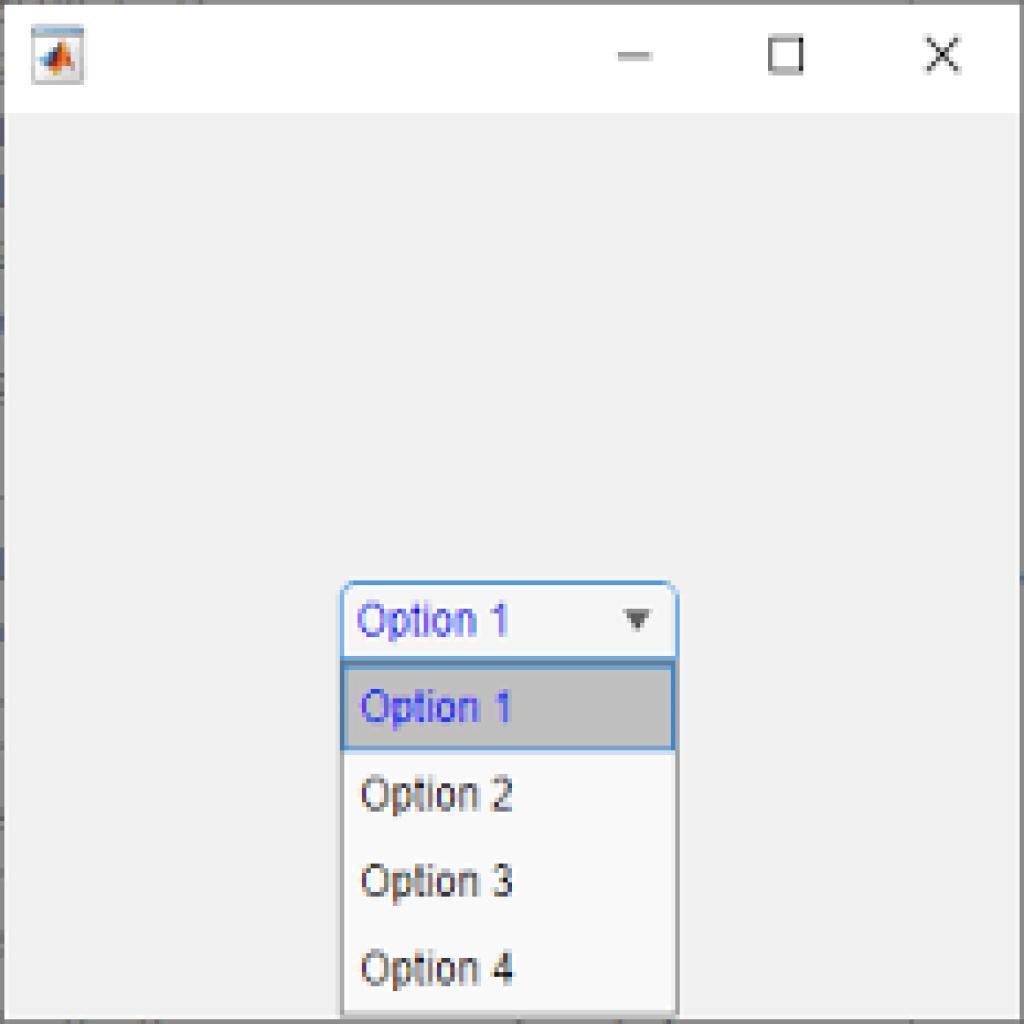button: (340, 663, 679, 752)
dropdown: (340, 581, 680, 661)
label: (362, 771, 520, 820), (362, 945, 524, 992), (358, 860, 520, 905)
